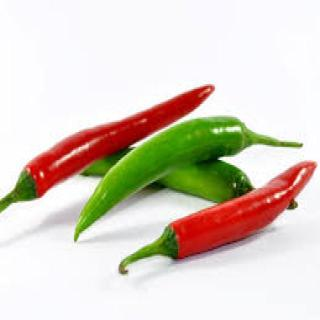Cabai Hijau: (76, 98, 250, 244)
Cabai Merah: (9, 85, 220, 205), (166, 162, 318, 259)
